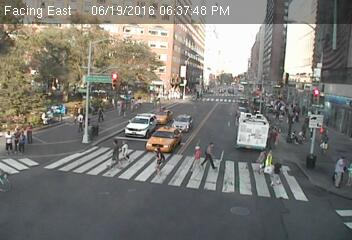neg: (52, 61, 75, 92), (187, 41, 206, 67), (152, 37, 169, 61), (119, 60, 133, 79)
pos: (325, 151, 351, 189), (200, 139, 225, 172), (93, 102, 110, 125)
